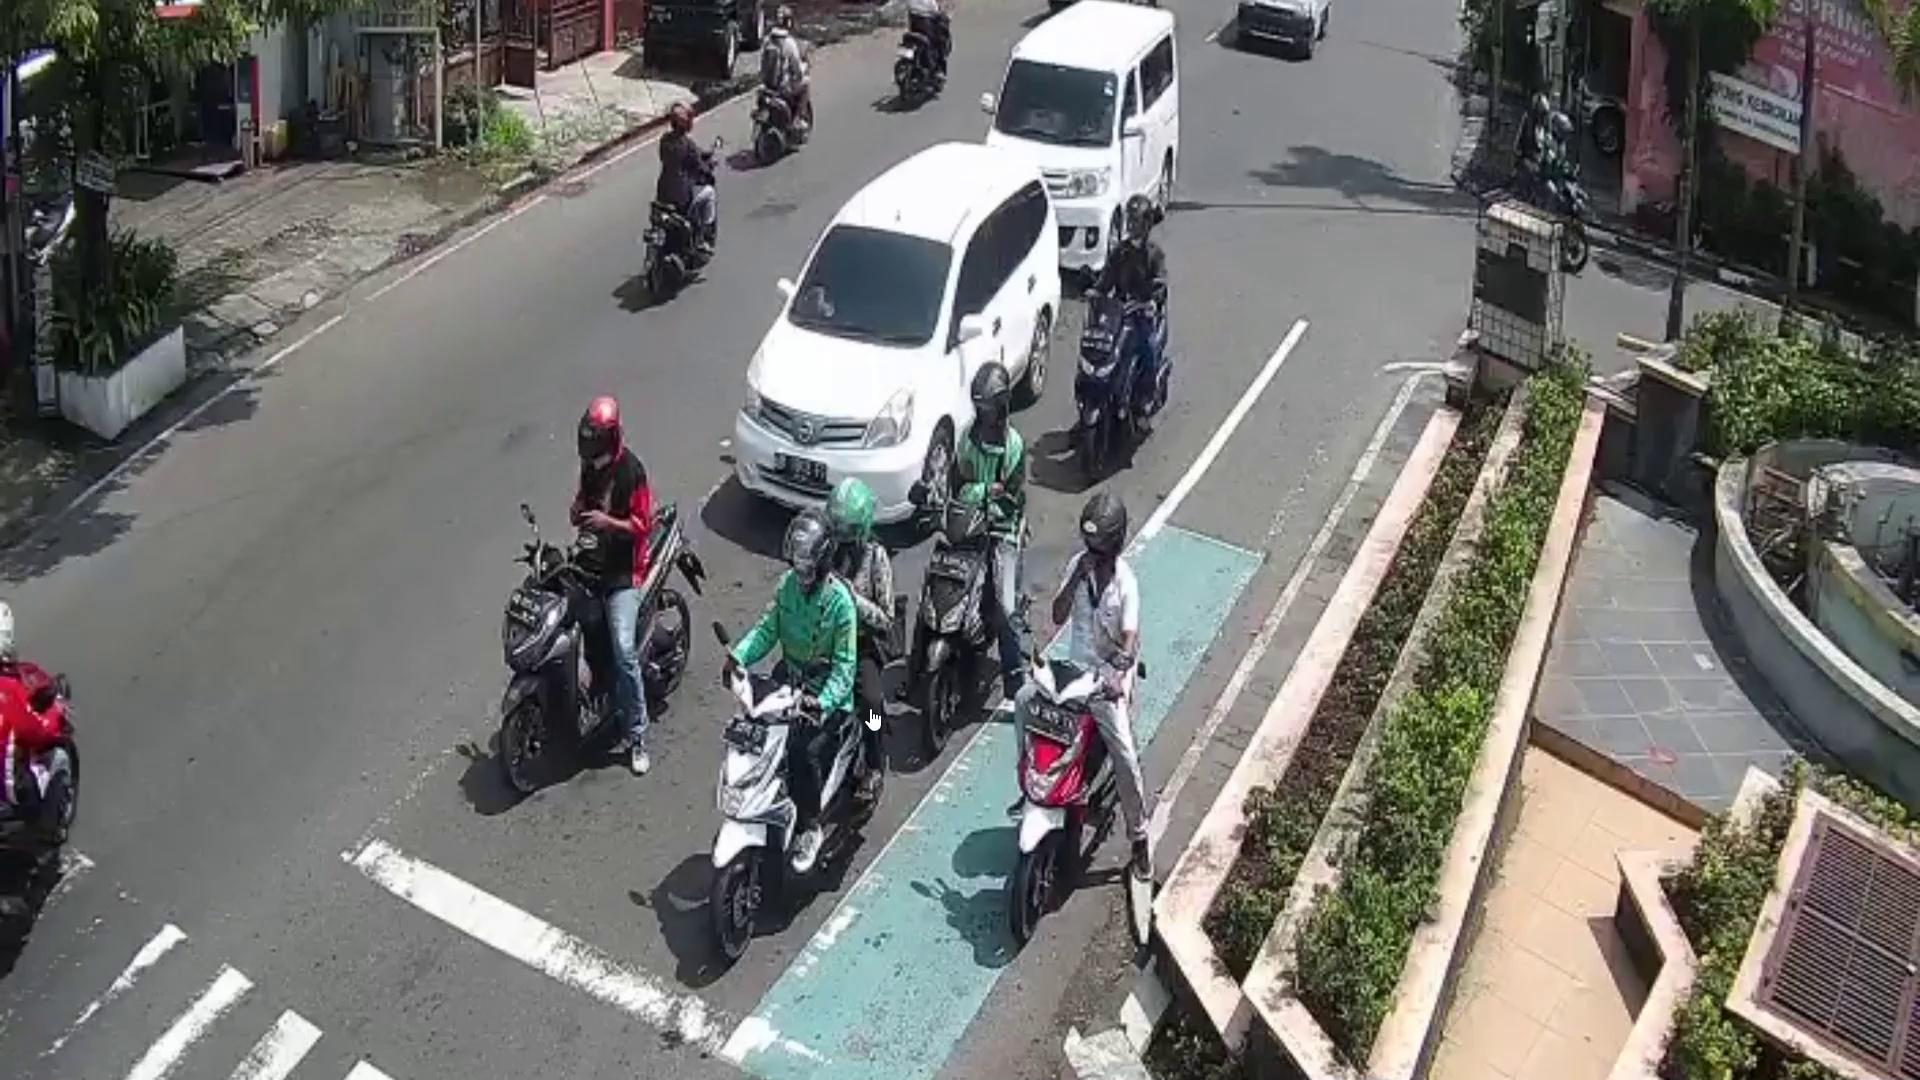car: (728, 137, 1062, 538), (989, 0, 1180, 273)
motorbike: (489, 501, 702, 800), (711, 669, 870, 959), (1013, 653, 1116, 936), (914, 501, 998, 753), (1079, 284, 1168, 479), (642, 146, 720, 299), (749, 65, 814, 160), (1559, 170, 1586, 266)
